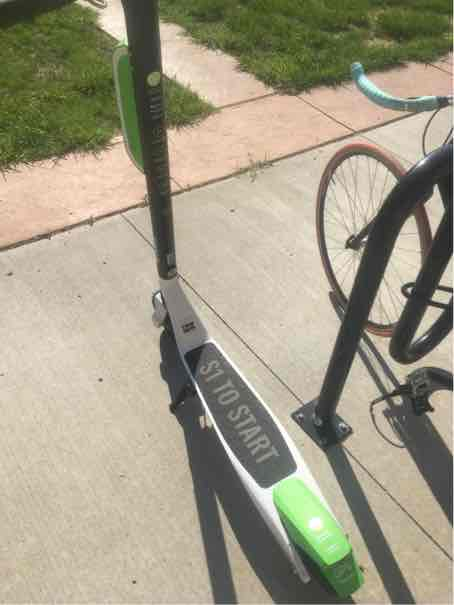scooter: (1, 15, 362, 605)
